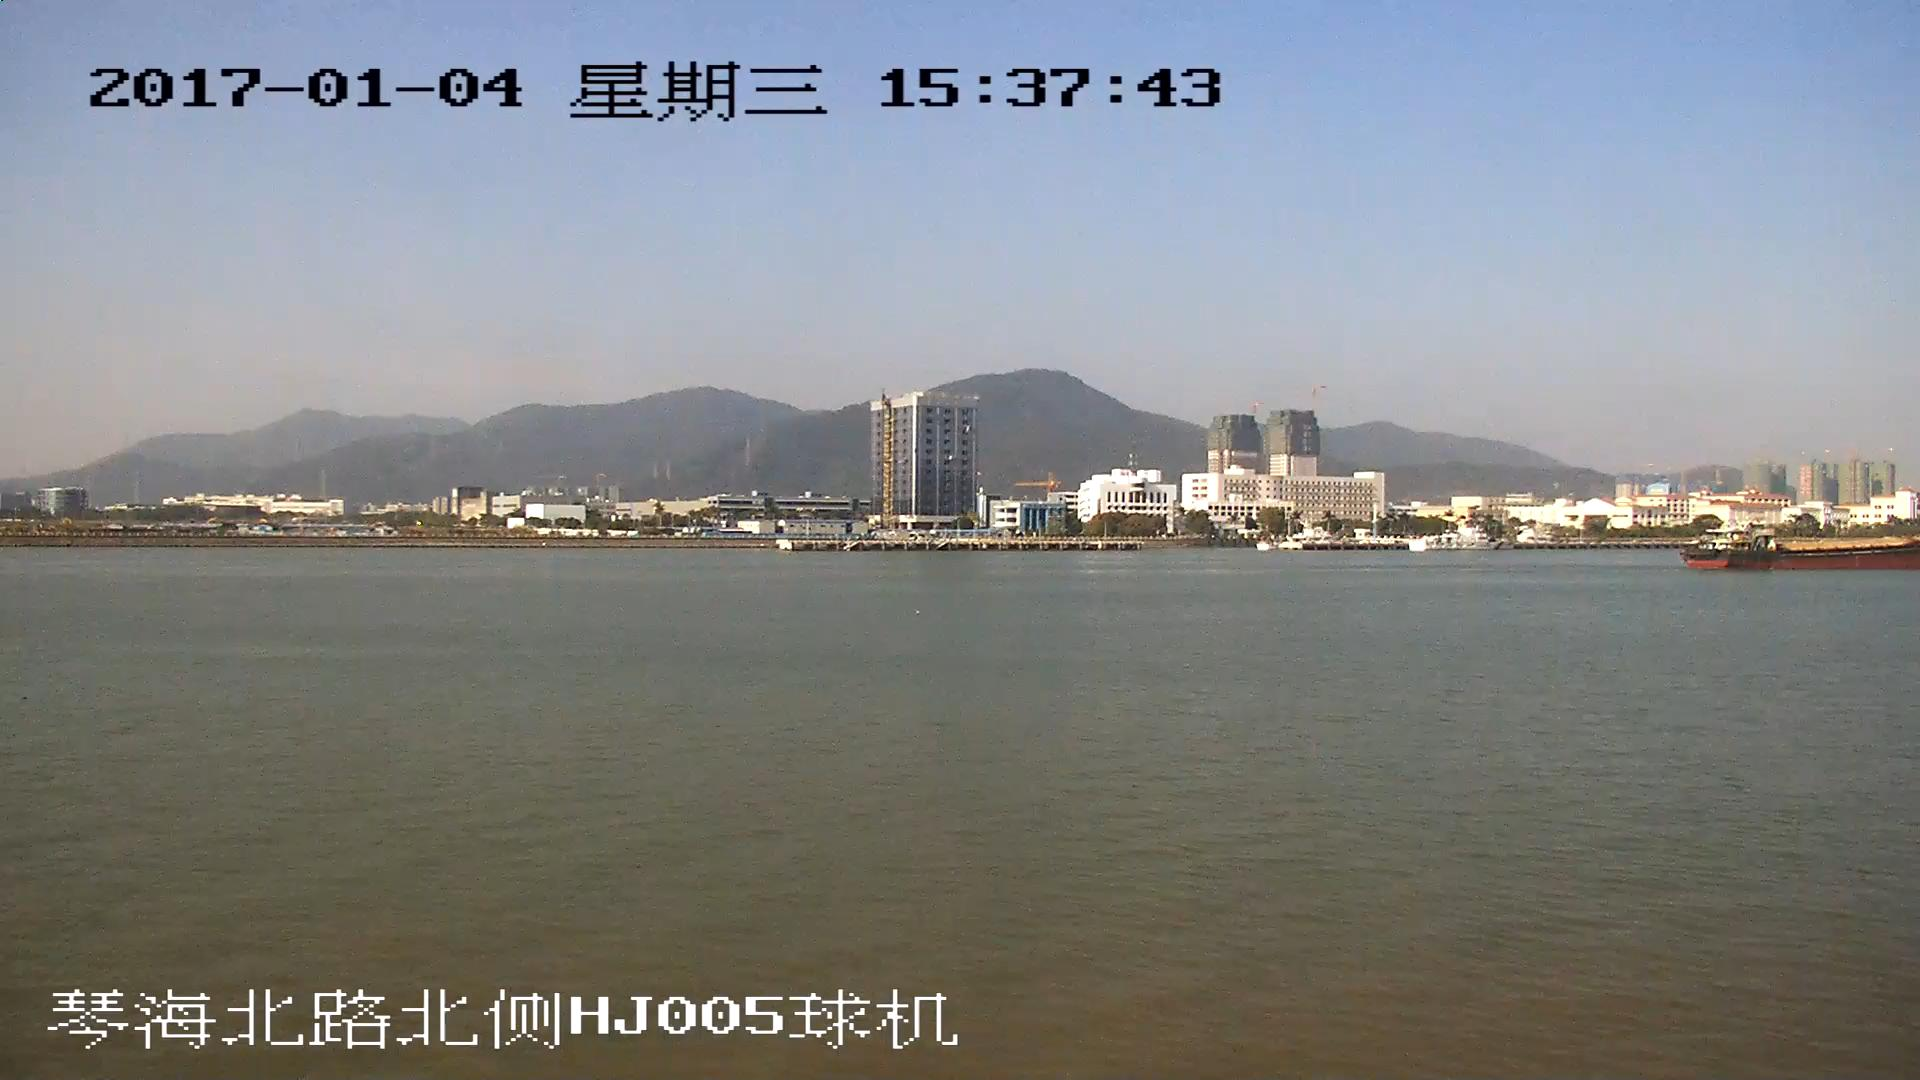bulk cargo carrier: (1686, 527, 1920, 569)
